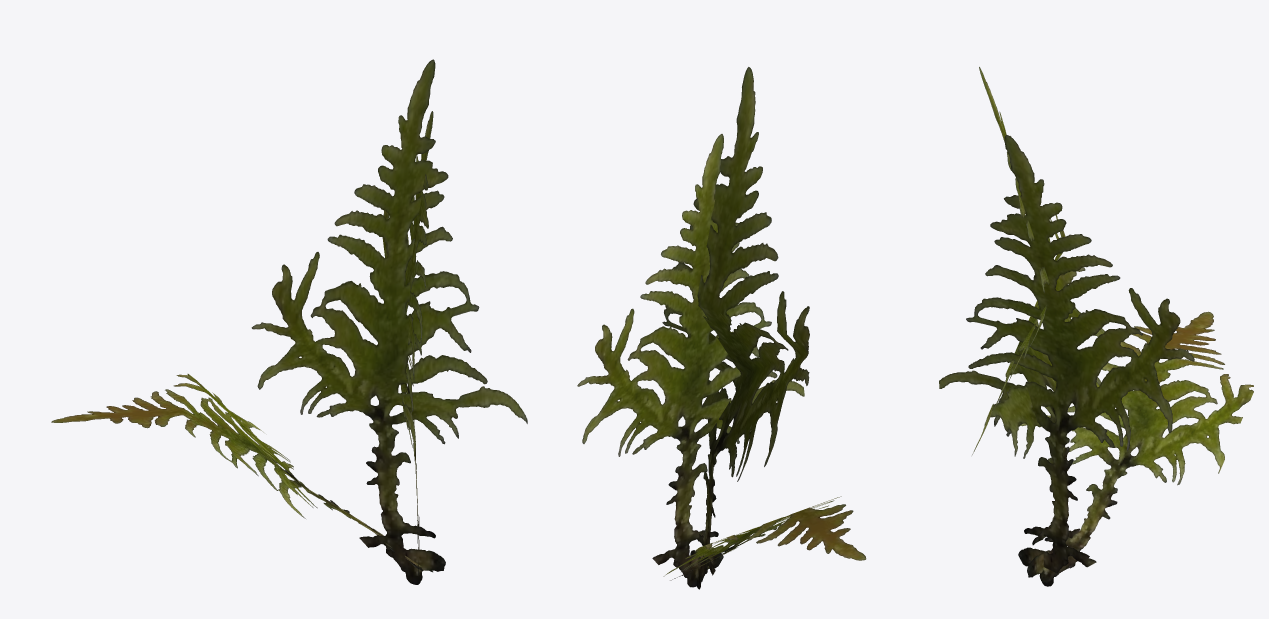
File: moss_01_c_LOD1.glb
3 views of the same model, side by side, from view 1: azimuth 30°, elevation 25°; view 2: azimuth 150°, elevation 25°; view 3: azimuth 270°, elevation 25° (orthographic). The views are drawn at different scales.
Visible parts, largest first — view 1: moss_01_c_LOD1__lod0; view 2: moss_01_c_LOD1__lod0; view 3: moss_01_c_LOD1__lod0.
Boxes of the visible parts, x1,y1,x2,y2 form: moss_01_c_LOD1__lod0: (51, 59, 527, 584); moss_01_c_LOD1__lod0: (577, 67, 866, 589); moss_01_c_LOD1__lod0: (939, 67, 1253, 586).
Size of what is drawn, in the model's own units: 0.0182 by 0.0277 by 0.014.
1 material, 1 textured.
